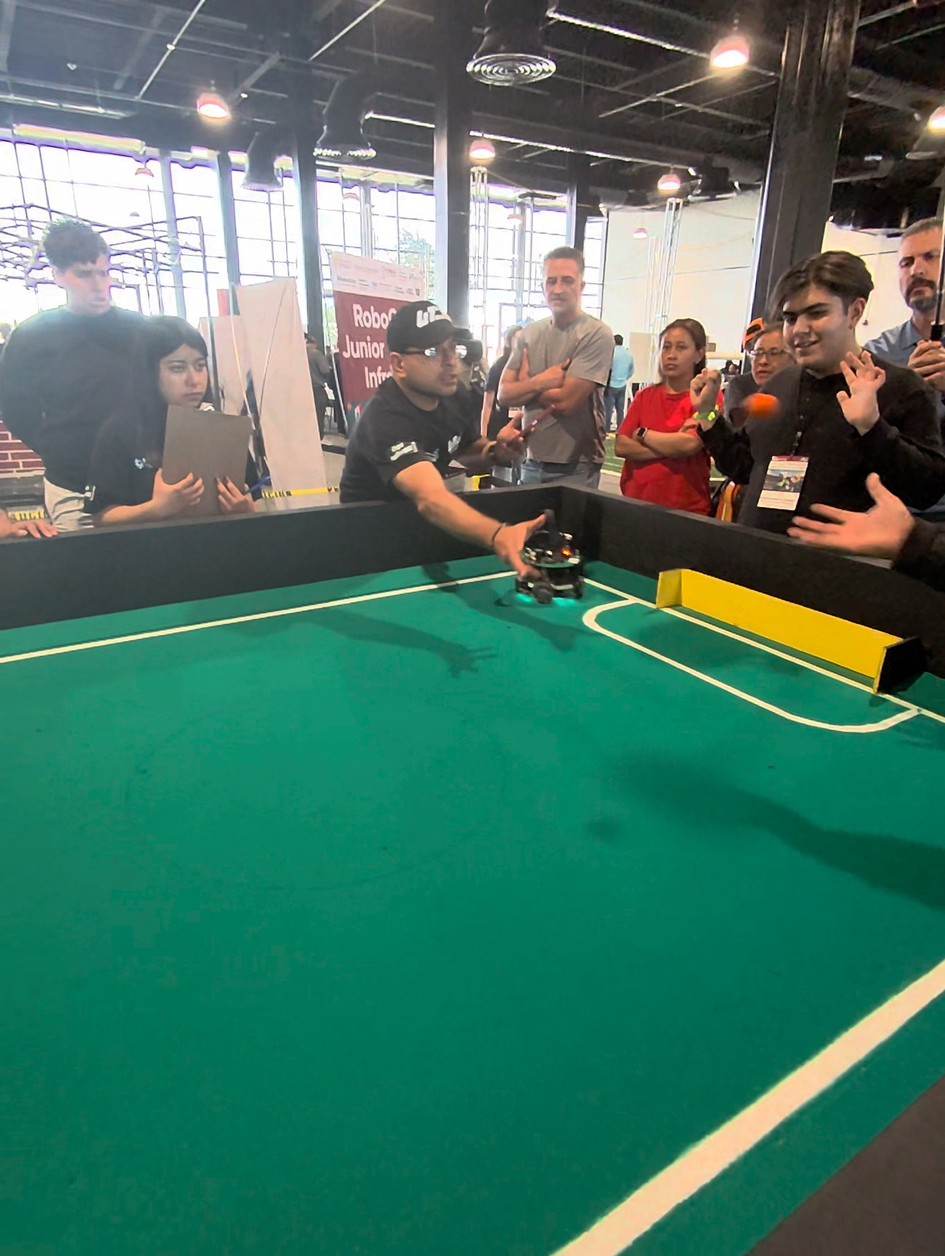Robot: (511, 502, 588, 614)
pelota: (731, 384, 792, 427)
